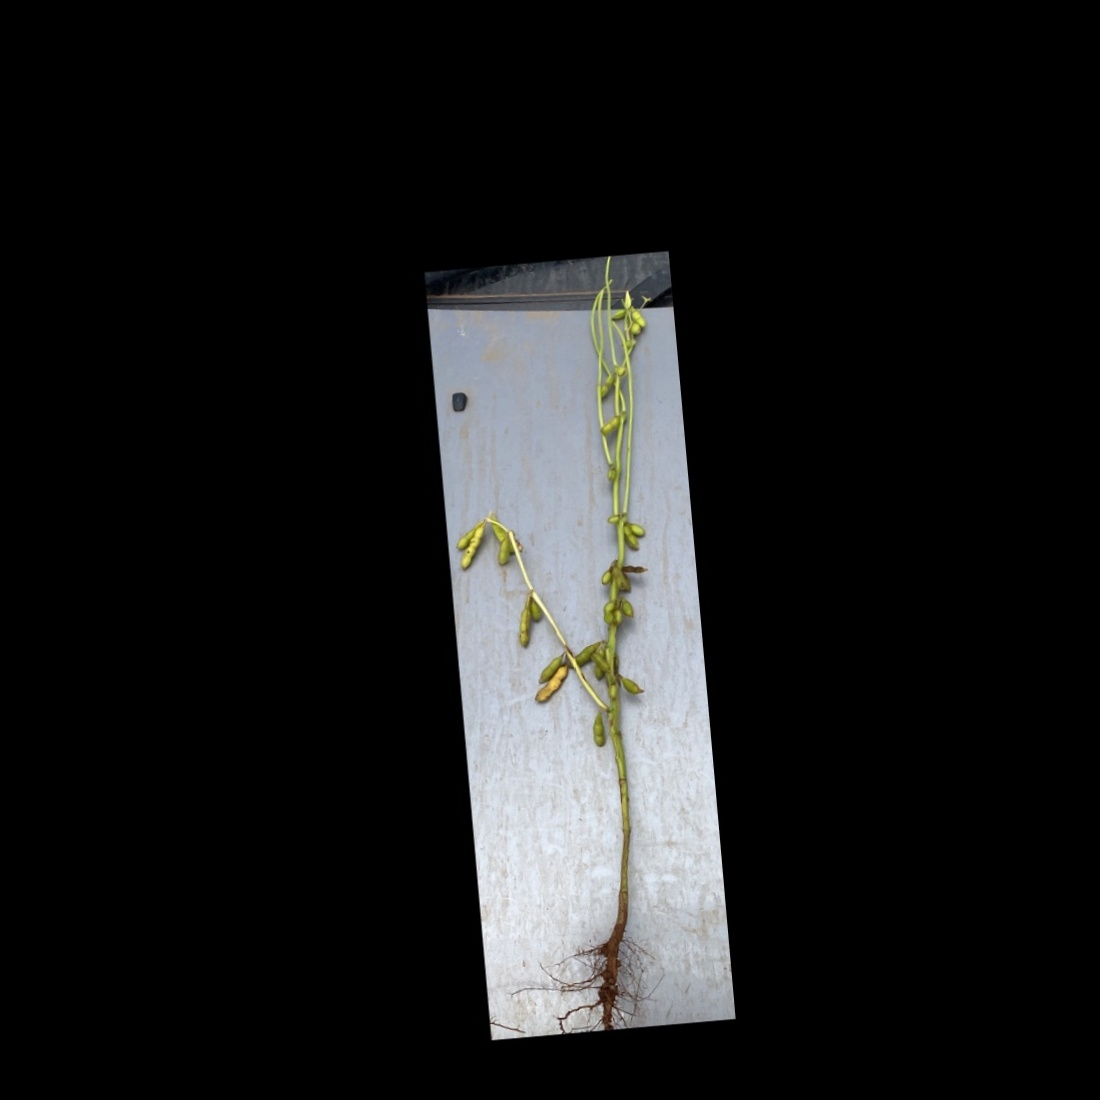pod: (514, 607, 534, 654), (615, 670, 645, 700), (590, 709, 610, 748), (596, 410, 625, 436), (593, 371, 615, 401), (493, 536, 511, 572), (617, 596, 638, 618), (620, 561, 650, 575), (599, 601, 615, 626), (607, 306, 627, 323)
soy: (430, 262, 714, 998)
